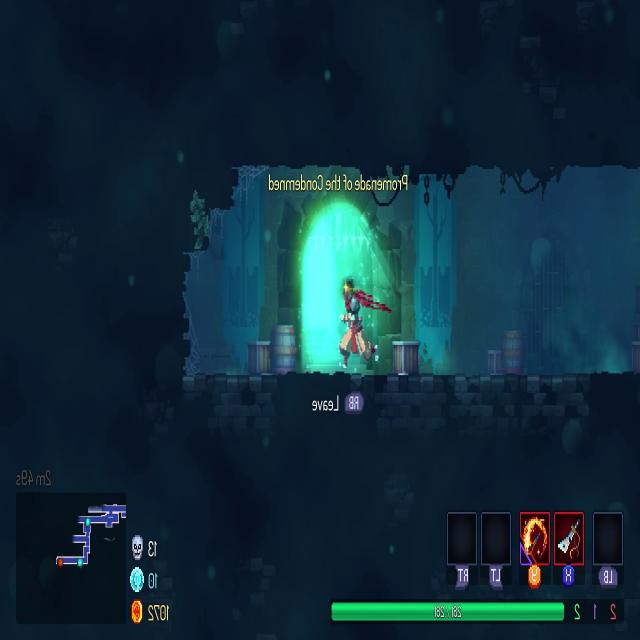agents: (336, 280, 380, 369)
door_nextLevel: (253, 167, 420, 375)
